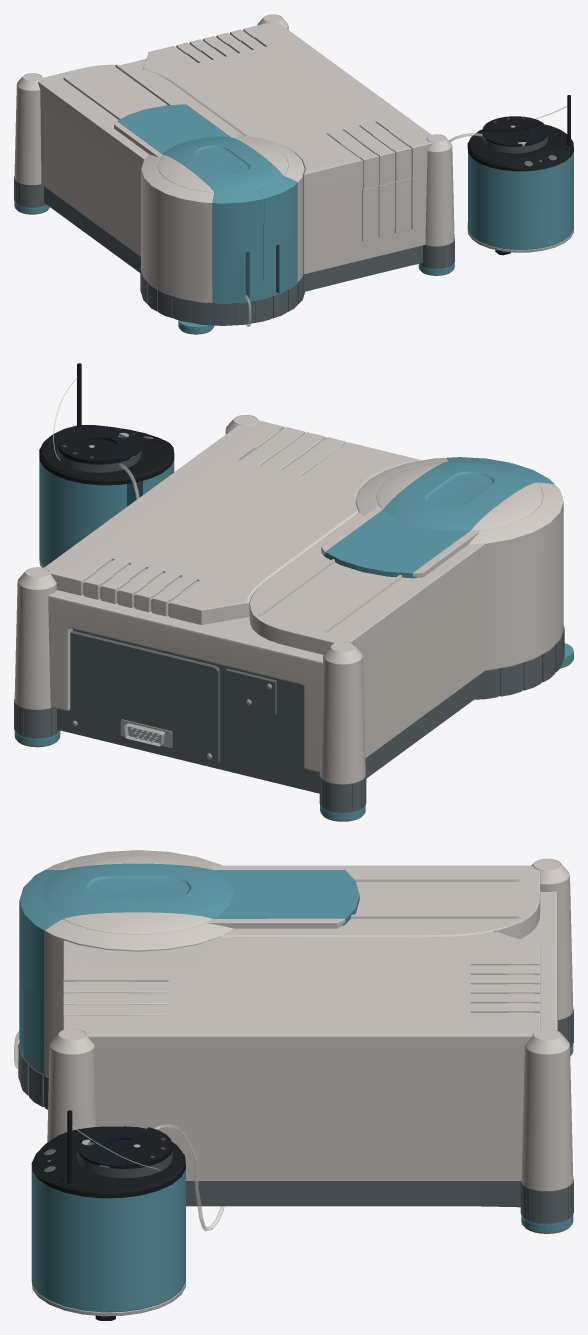
File: ziwaikejianfenguangguangduji.fbx
3 renders of one model, top to bottom at view 1: azimuth 30°, elevation 25°; view 2: azimuth 150°, elevation 25°; view 3: azimuth 270°, elevation 25°, orthographic. The views are drawn at different scales.
Parts seen in each view (by area): view 1: polySurface111, polySurface75, polySurface118, polySurface34, polySurface96, polySurface67, pCylinder7, polySurface124, polySurface30, polySurface122, polySurface115, polySurface117 (+1 smaller); view 2: polySurface111, pCube3, polySurface82, polySurface34, polySurface75, polySurface118, pCylinder7, pCylinder6, polySurface96, polySurface30, polySurface67, pCube2 (+5 smaller); view 3: polySurface111, polySurface118, polySurface75, pCylinder6, polySurface34, polySurface124, polySurface96, polySurface30, pCylinder7, polySurface82, polySurface122, polySurface69 (+6 smaller).
Part boxes in pixels (x1=…): polySurface111: x1=38, y1=22, x2=432, y2=291; polySurface75: x1=117, y1=104, x2=297, y2=303; polySurface118: x1=467, y1=124, x2=573, y2=252; polySurface34: x1=141, y1=135, x2=304, y2=302; polySurface96: x1=327, y1=121, x2=412, y2=241; polySurface67: x1=140, y1=268, x2=304, y2=325; pCylinder7: x1=14, y1=73, x2=49, y2=213; polySurface124: x1=420, y1=134, x2=454, y2=268; polySurface30: x1=157, y1=137, x2=288, y2=192; polySurface122: x1=482, y1=124, x2=547, y2=146; polySurface115: x1=482, y1=116, x2=543, y2=131; polySurface117: x1=482, y1=133, x2=547, y2=153; polySurface111: x1=44, y1=420, x2=485, y2=793; pCube3: x1=65, y1=630, x2=220, y2=764; polySurface82: x1=48, y1=590, x2=323, y2=772; polySurface34: x1=355, y1=458, x2=563, y2=670; polySurface75: x1=323, y1=457, x2=554, y2=578; polySurface118: x1=39, y1=425, x2=174, y2=567; pCylinder7: x1=319, y1=641, x2=366, y2=820; pCylinder6: x1=14, y1=567, x2=60, y2=745; polySurface96: x1=240, y1=427, x2=346, y2=475; polySurface30: x1=376, y1=461, x2=543, y2=530; polySurface67: x1=475, y1=626, x2=564, y2=699; pCube2: x1=226, y1=668, x2=276, y2=713; polySurface111: x1=63, y1=865, x2=540, y2=1207; polySurface118: x1=31, y1=1126, x2=185, y2=1316; polySurface75: x1=19, y1=863, x2=359, y2=1074; pCylinder6: x1=520, y1=1028, x2=573, y2=1232; polySurface34: x1=45, y1=850, x2=233, y2=1077; polySurface124: x1=47, y1=1028, x2=96, y2=1142; polySurface96: x1=63, y1=981, x2=168, y2=1016; polySurface30: x1=63, y1=854, x2=212, y2=934; pCylinder7: x1=531, y1=858, x2=573, y2=1055; polySurface82: x1=520, y1=891, x2=557, y2=1030; polySurface122: x1=77, y1=1126, x2=172, y2=1168; polySurface69: x1=206, y1=918, x2=345, y2=928.
Size of the model in its own units: 71.68 by 23.98 by 59.17.
